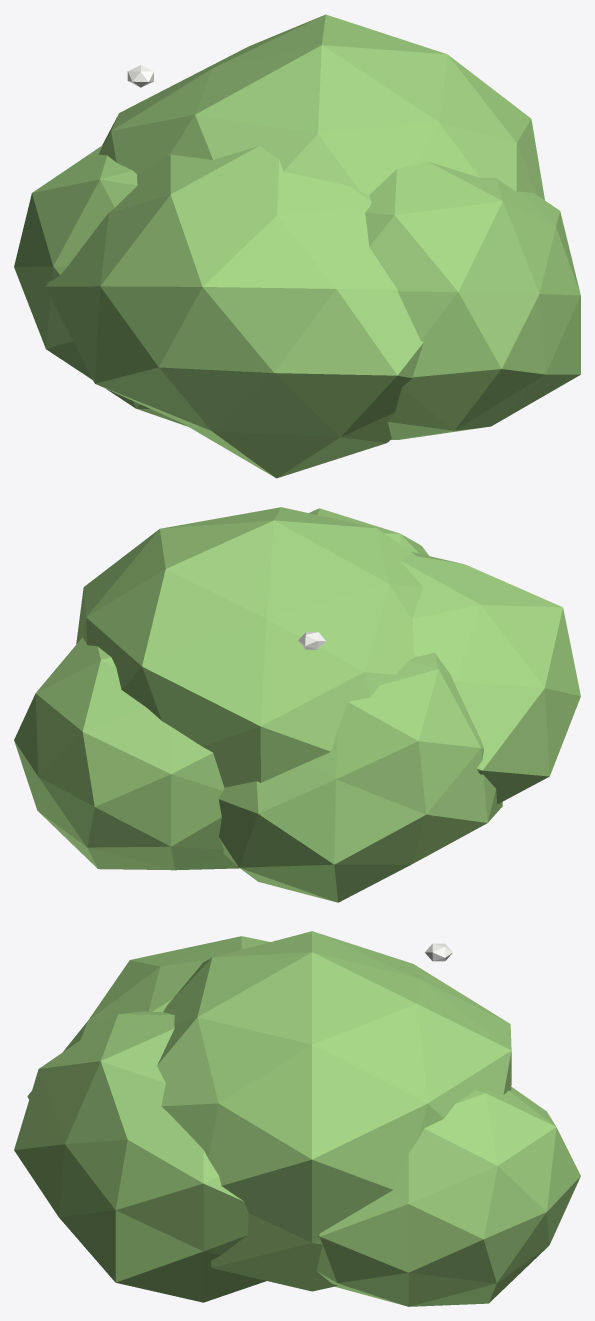
The model's file is arbusto_2.fbx.
3 views of the same model, one above another, from view 1: azimuth 30°, elevation 25°; view 2: azimuth 150°, elevation 25°; view 3: azimuth 270°, elevation 25° (orthographic). The views are drawn at different scales.
Visible parts, largest first — view 1: arbusto_2~Folhagem 3@leaf, arbusto_2~Folhagem 0@leaf, arbusto_2~Folhagem 4@leaf, arbusto_2~Folhagem 2@leaf; view 2: arbusto_2~Folhagem 0@leaf, arbusto_2~Folhagem 2@leaf, arbusto_2~Folhagem 1@leaf, arbusto_2~Folhagem 3@leaf, arbusto_2~Folhagem 4@leaf; view 3: arbusto_2~Folhagem 0@leaf, arbusto_2~Folhagem 4@leaf, arbusto_2~Folhagem 1@leaf, arbusto_2~Folhagem 3@leaf.
Part boxes in pixels (left/top/right/bottom): arbusto_2~Folhagem 3@leaf: left=45, top=146, right=423, bottom=478; arbusto_2~Folhagem 0@leaf: left=98, top=14, right=544, bottom=200; arbusto_2~Folhagem 4@leaf: left=365, top=161, right=580, bottom=439; arbusto_2~Folhagem 2@leaf: left=14, top=145, right=187, bottom=426; arbusto_2~Folhagem 0@leaf: left=76, top=507, right=422, bottom=787; arbusto_2~Folhagem 2@leaf: left=218, top=652, right=502, bottom=902; arbusto_2~Folhagem 1@leaf: left=14, top=637, right=239, bottom=870; arbusto_2~Folhagem 3@leaf: left=400, top=552, right=580, bottom=804; arbusto_2~Folhagem 4@leaf: left=309, top=508, right=428, bottom=555; arbusto_2~Folhagem 0@leaf: left=157, top=931, right=511, bottom=1291; arbusto_2~Folhagem 4@leaf: left=14, top=1011, right=266, bottom=1302; arbusto_2~Folhagem 1@leaf: left=316, top=1087, right=580, bottom=1306; arbusto_2~Folhagem 3@leaf: left=27, top=936, right=269, bottom=1099.
Size of the model in its own units: 1.59 by 1.15 by 1.8.
